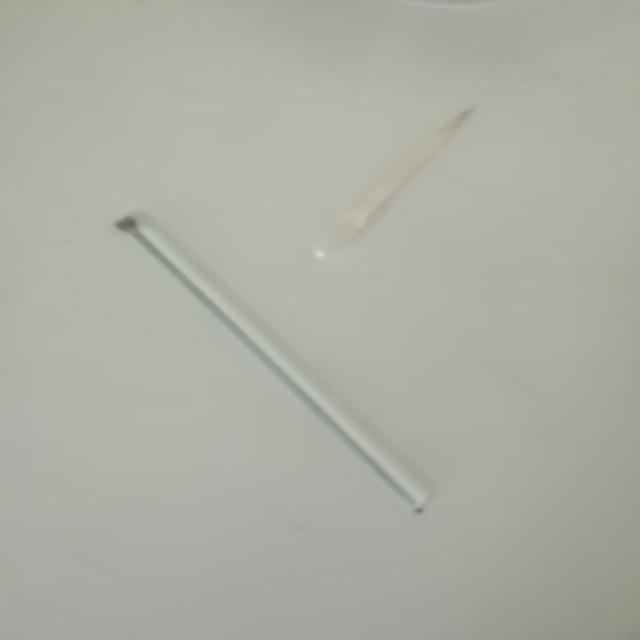Glass_Rod: (97, 195, 440, 559)
Pipette: (284, 78, 530, 279)
